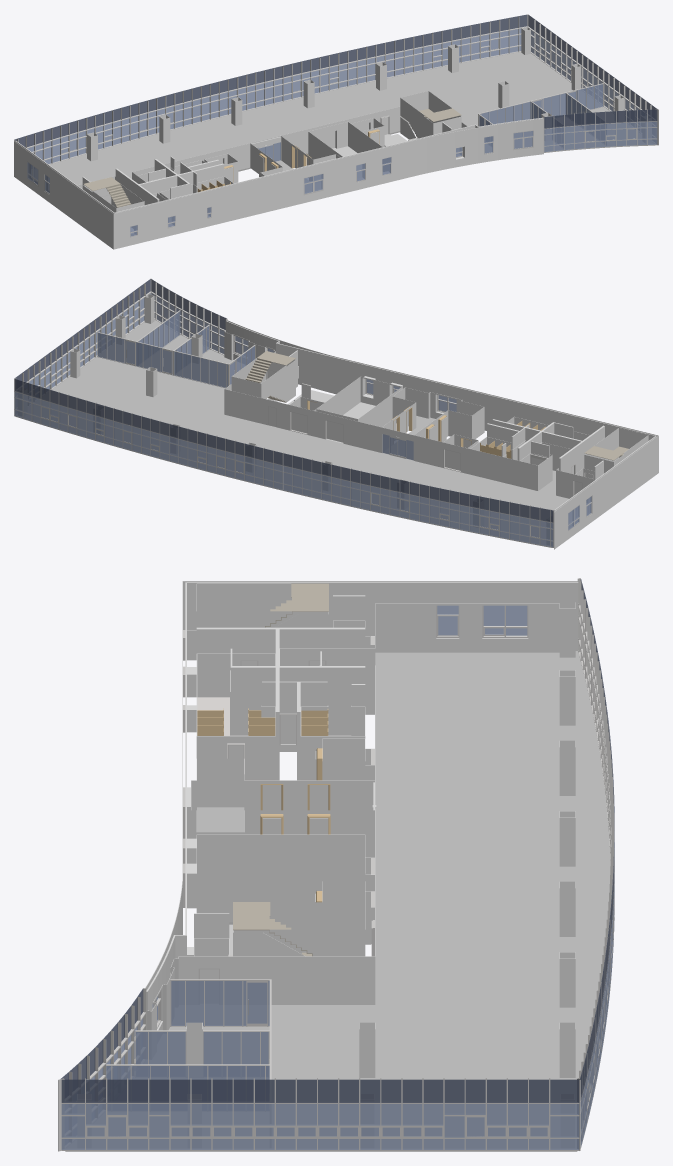
The picture shows the model from 3 angles, top to bottom: view 1: azimuth 30°, elevation 25°; view 2: azimuth 150°, elevation 25°; view 3: azimuth 270°, elevation 25°; orthographic projection. The views are drawn at different scales.
Visible parts, largest first — view 1: A8_11F_Window, A8_11F_Floor, A8_11F_outWall, A8_11F_Wall, A8_11F_Pillar, A8_11F_Glass, A8_11F_Stairs, A8_11F_Frame, A8_11F_ELEV, A8_11F_Door, A8_11F_AutomaticDoor; view 2: A8_11F_Floor, A8_11F_Window, A8_11F_Wall, A8_11F_outWall, A8_11F_Glass, A8_11F_Pillar, A8_11F_Door, A8_11F_Frame, A8_11F_Stairs, A8_11F_AutomaticDoor, A8_11F_ELEV, A8_11F_GlassDoor; view 3: A8_11F_Floor, A8_11F_Wall, A8_11F_Window, A8_11F_Pillar, A8_11F_Glass, A8_11F_ELEV, A8_11F_Stairs, A8_11F_Frame, A8_11F_Door, A8_11F_Toilet, A8_11F_outWall, A8_11F_GlassDoor.
Part boxes in pixels (<box>): A8_11F_Window: <box>14,14,658,237</box>; A8_11F_Floor: <box>31,52,654,191</box>; A8_11F_outWall: <box>14,118,543,249</box>; A8_11F_Wall: <box>15,91,543,235</box>; A8_11F_Pillar: <box>87,27,651,161</box>; A8_11F_Glass: <box>480,84,602,125</box>; A8_11F_Stairs: <box>83,108,461,207</box>; A8_11F_Frame: <box>478,83,603,126</box>; A8_11F_ELEV: <box>224,129,379,182</box>; A8_11F_Door: <box>102,115,458,203</box>; A8_11F_AutomaticDoor: <box>251,136,281,163</box>; A8_11F_Floor: <box>22,320,587,547</box>; A8_11F_Window: <box>14,278,591,547</box>; A8_11F_Wall: <box>224,321,656,527</box>; A8_11F_outWall: <box>227,320,658,549</box>; A8_11F_Glass: <box>98,311,254,387</box>; A8_11F_Pillar: <box>18,294,549,544</box>; A8_11F_Door: <box>267,369,593,495</box>; A8_11F_Frame: <box>97,310,255,388</box>; A8_11F_Stairs: <box>245,351,628,460</box>; A8_11F_AutomaticDoor: <box>381,428,413,460</box>; A8_11F_ELEV: <box>307,400,471,448</box>; A8_11F_GlassDoor: <box>126,340,563,454</box>; A8_11F_Floor: <box>65,651,610,1151</box>; A8_11F_Wall: <box>146,582,578,1059</box>; A8_11F_Window: <box>58,578,614,1151</box>; A8_11F_Pillar: <box>78,602,575,1147</box>; A8_11F_Glass: <box>106,981,269,1079</box>; A8_11F_ELEV: <box>260,748,330,902</box>; A8_11F_Stairs: <box>233,583,328,956</box>; A8_11F_Frame: <box>106,979,271,1147</box>; A8_11F_Door: <box>198,636,374,1003</box>; A8_11F_Toilet: <box>197,708,328,735</box>; A8_11F_outWall: <box>145,581,577,990</box>; A8_11F_GlassDoor: <box>247,981,269,1063</box>.
Size of the model in its own units: 61.96 by 4.3 by 29.02.
